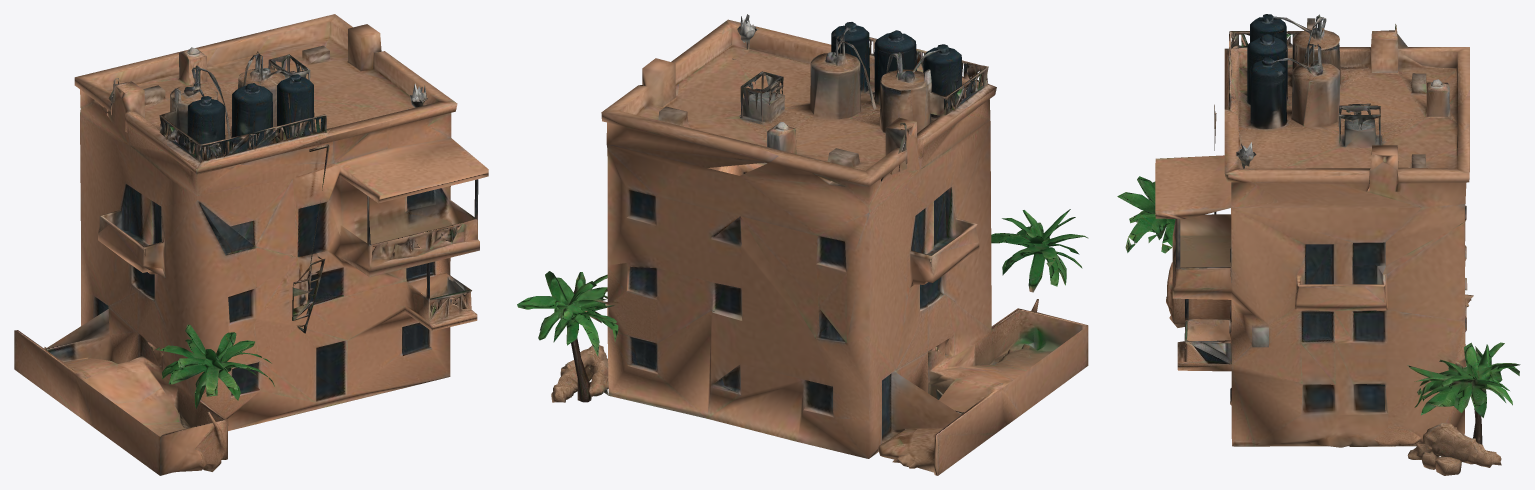
The model's file is apartment.glb.
The picture shows the model from 3 angles, left to right: view 1: azimuth 30°, elevation 25°; view 2: azimuth 150°, elevation 25°; view 3: azimuth 270°, elevation 25°; orthographic projection. The views are drawn at different scales.
Size of the model in its own units: 1.89 by 1.58 by 1.7.
1 material, 1 textured.
